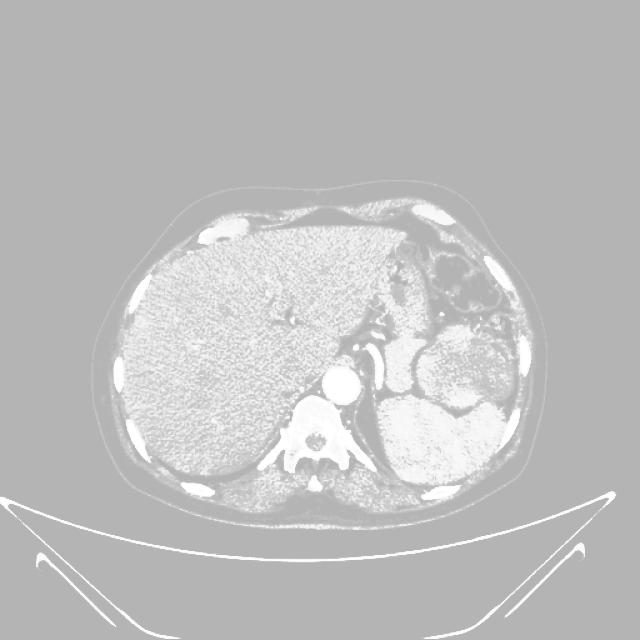TUMOR: (354, 225, 548, 466)
